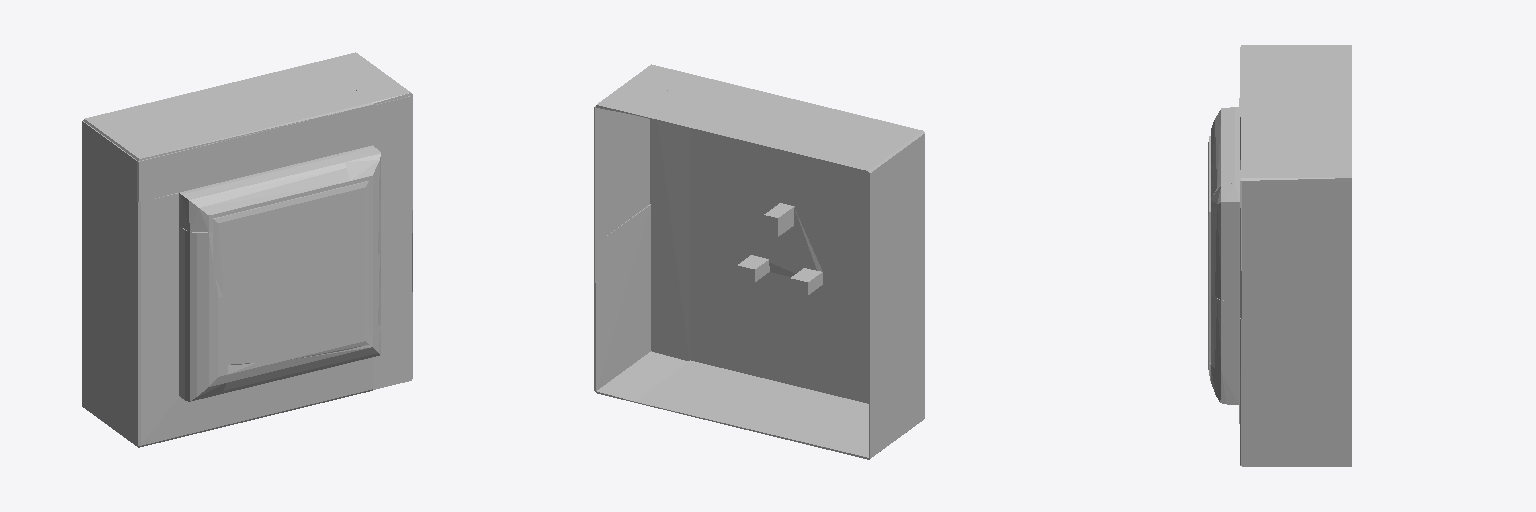
Rendered from Socket_UK_vhacd2.obj.
3 views of the same model, side by side, from view 1: azimuth 30°, elevation 25°; view 2: azimuth 150°, elevation 25°; view 3: azimuth 270°, elevation 25° (orthographic).
Visible parts, largest first — view 1: convex_17, convex_15, convex_4, convex_1, convex_6, convex_8, convex_16, convex_18, convex_10, convex_5, convex_3, convex_19 (+1 smaller); view 2: convex_15, convex_4, convex_1, convex_0, convex_8, convex_2, convex_9, convex_5, convex_14, convex_3, convex_7, convex_11 (+2 smaller); view 3: convex_2, convex_9, convex_1, convex_19, convex_3, convex_18, convex_20, convex_10, convex_17.
Boxes of the visible parts, box(x1,y1,x2,y2) form: convex_17: box(213, 181, 368, 364); convex_15: box(141, 145, 373, 445); convex_4: box(82, 162, 140, 445); convex_1: box(83, 62, 372, 160); convex_6: box(137, 105, 372, 201); convex_8: box(373, 96, 412, 389); convex_16: box(179, 226, 227, 401); convex_18: box(179, 155, 349, 232); convex_10: box(222, 324, 380, 393); convex_5: box(82, 121, 136, 200); convex_3: box(318, 52, 412, 105); convex_19: box(337, 146, 380, 259); convex_15: box(690, 129, 868, 403); convex_4: box(869, 174, 924, 457); convex_1: box(635, 74, 923, 172); convex_0: box(635, 360, 924, 459); convex_8: box(650, 119, 689, 360); convex_2: box(594, 204, 650, 391); convex_9: box(594, 106, 649, 243); convex_5: box(868, 133, 924, 213); convex_14: box(752, 208, 822, 276); convex_3: box(596, 64, 688, 114); convex_7: box(596, 351, 688, 402); convex_11: box(764, 203, 794, 236); convex_2: box(1240, 318, 1351, 465); convex_9: box(1242, 182, 1351, 318); convex_1: box(1240, 45, 1351, 159); convex_19: box(1211, 183, 1238, 300); convex_3: box(1240, 159, 1351, 181); convex_18: box(1211, 107, 1238, 197); convex_20: box(1211, 294, 1238, 371); convex_10: box(1210, 363, 1238, 404); convex_17: box(1208, 136, 1210, 375).
Bounding box in the file's own units: 0.115 × 0.115 × 0.0518.